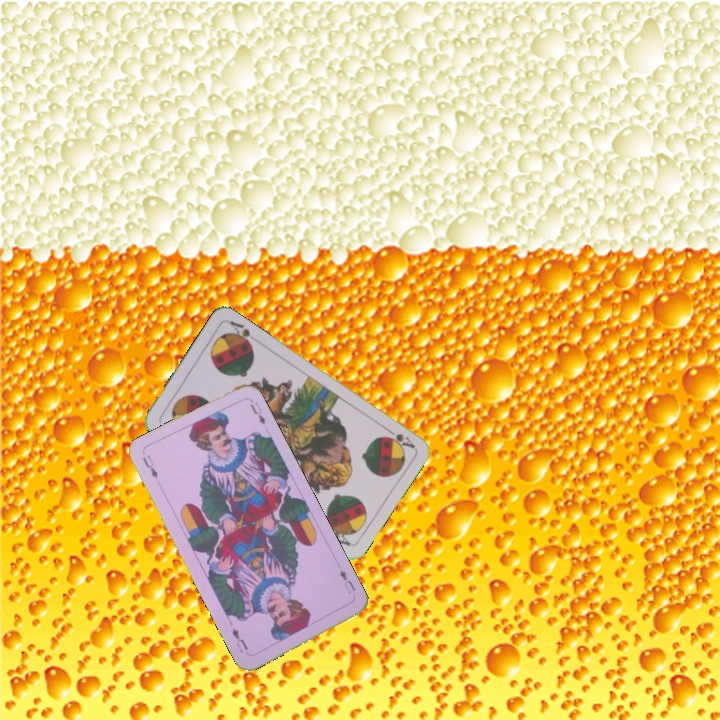EU: (138, 450, 160, 481), (336, 566, 358, 596)
SA: (380, 423, 417, 451)
